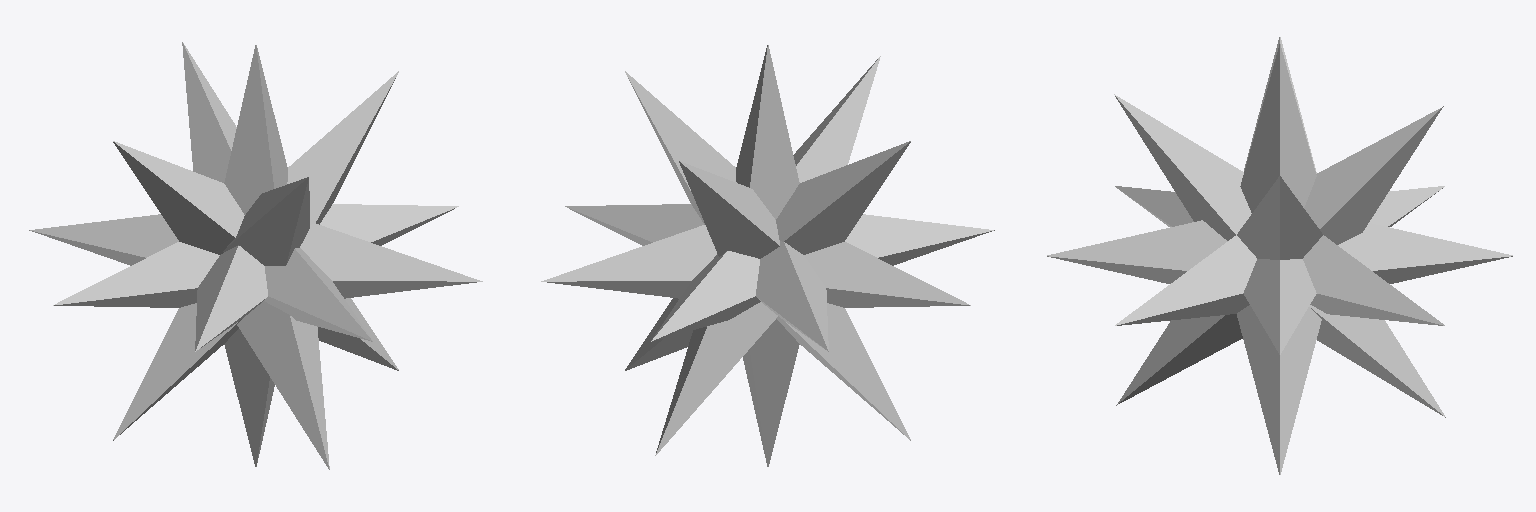
The model's file is urchin.obj.
3 renders of one model, left to right at view 1: azimuth 30°, elevation 25°; view 2: azimuth 150°, elevation 25°; view 3: azimuth 270°, elevation 25°, orthographic.
Visible parts, largest first — view 1: Cone_Cone.005; view 2: Cone_Cone.005; view 3: Cone_Cone.005.
Part boxes in pixels (x1,y1,x2,y2): Cone_Cone.005: (29, 42, 482, 469); Cone_Cone.005: (541, 45, 994, 466); Cone_Cone.005: (1047, 37, 1512, 474).
Size of the model in its own units: 4 by 4 by 4.